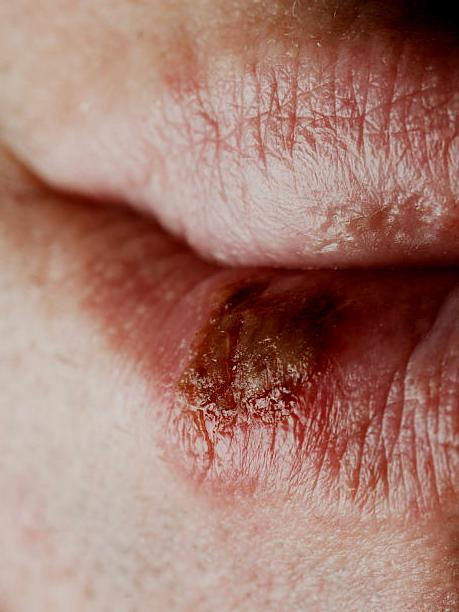Ulcer: (165, 278, 331, 459)
